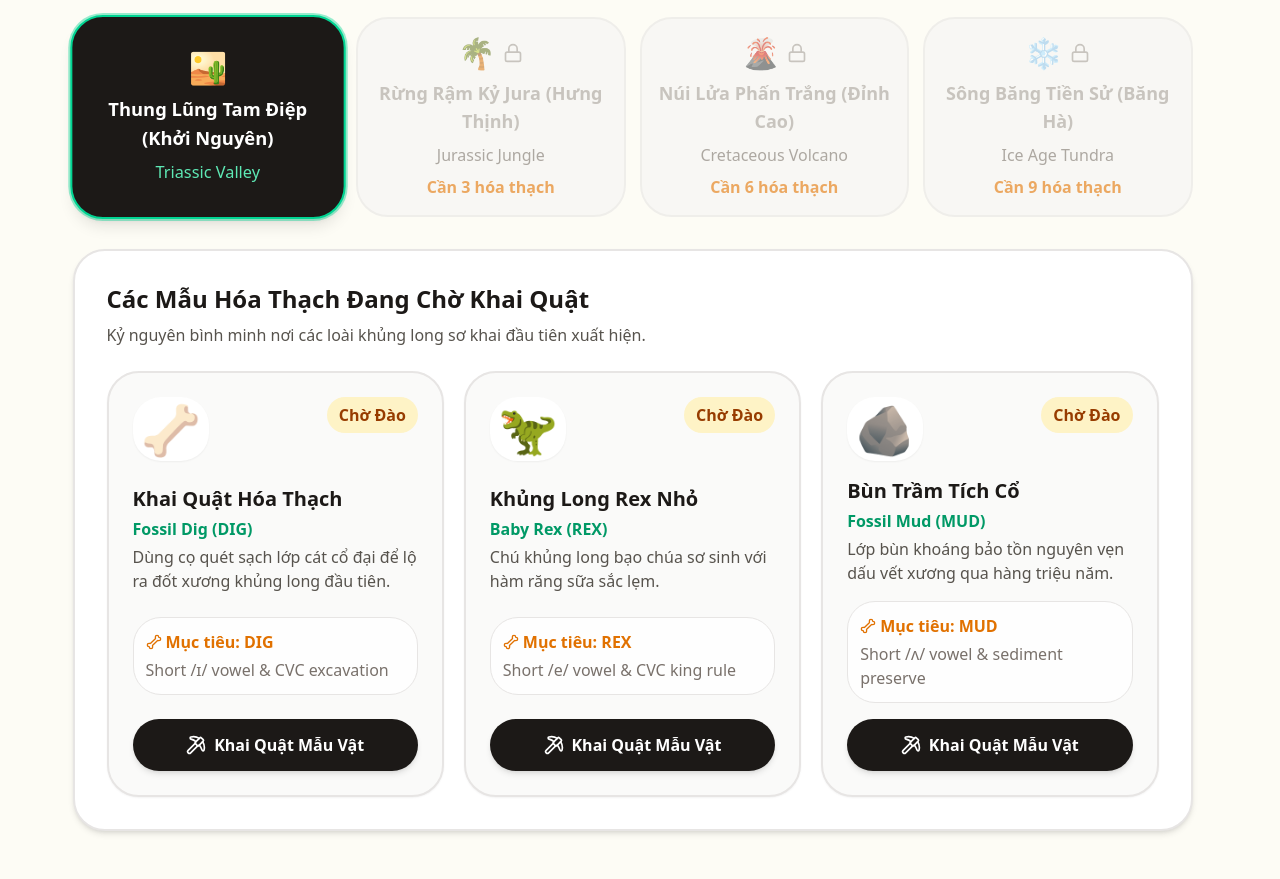
Phonics Dino Kingdom UI Components › PhonicsDinoExperience Full Integration › renders top-level experience, opens modal, and unlocks fossils
(page scrolled)
# Open DIG fossil modal
Step 1. Click the button with aria-label "khai quật hóa thạch triassic-dig" → x=275, y=744, box [132,718,418,770]
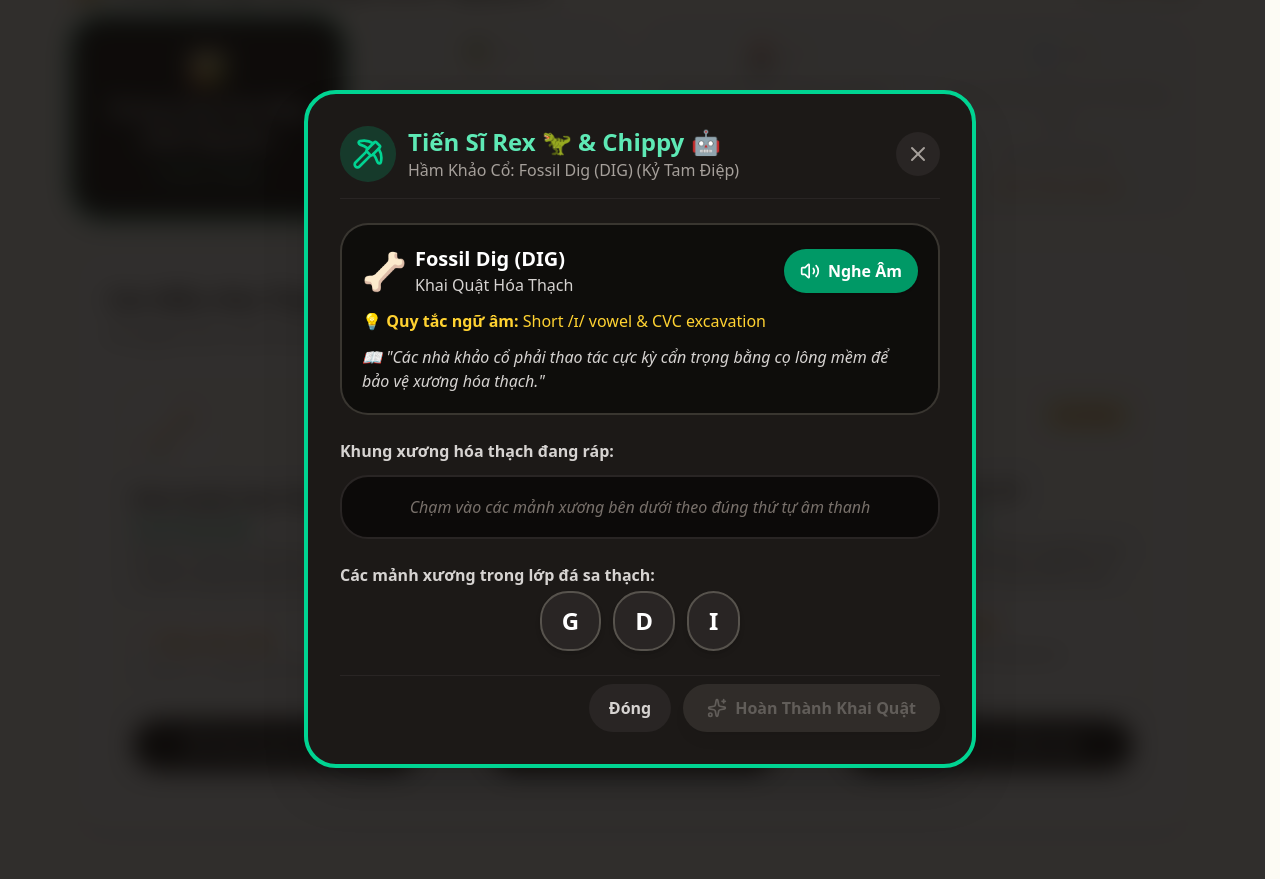
Result: the heading "Tiến Sĩ Rex 🦖 & Chippy 🤖" is shown at [408,126,739,158]
